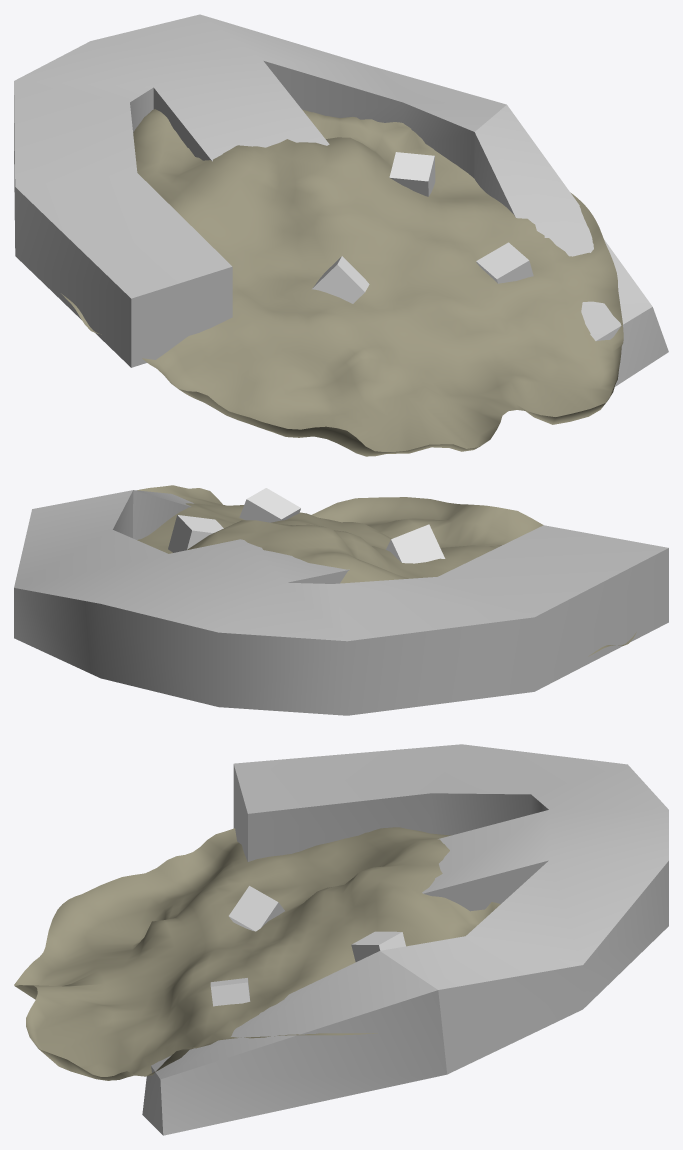
Rendered from Stage1.fbx.
The picture shows the model from 3 angles, top to bottom: view 1: azimuth 30°, elevation 25°; view 2: azimuth 150°, elevation 25°; view 3: azimuth 270°, elevation 25°; orthographic projection. The views are drawn at different scales.
Parts seen in each view (by area): view 1: pCube6; view 2: pCube6; view 3: pCube6.
Boxes of the visible parts, bbox=[...] form: pCube6: bbox=[14, 14, 668, 456]; pCube6: bbox=[14, 485, 668, 715]; pCube6: bbox=[14, 744, 668, 1135].
Bounding box in the file's own units: 40.03 × 15.87 × 47.67.
